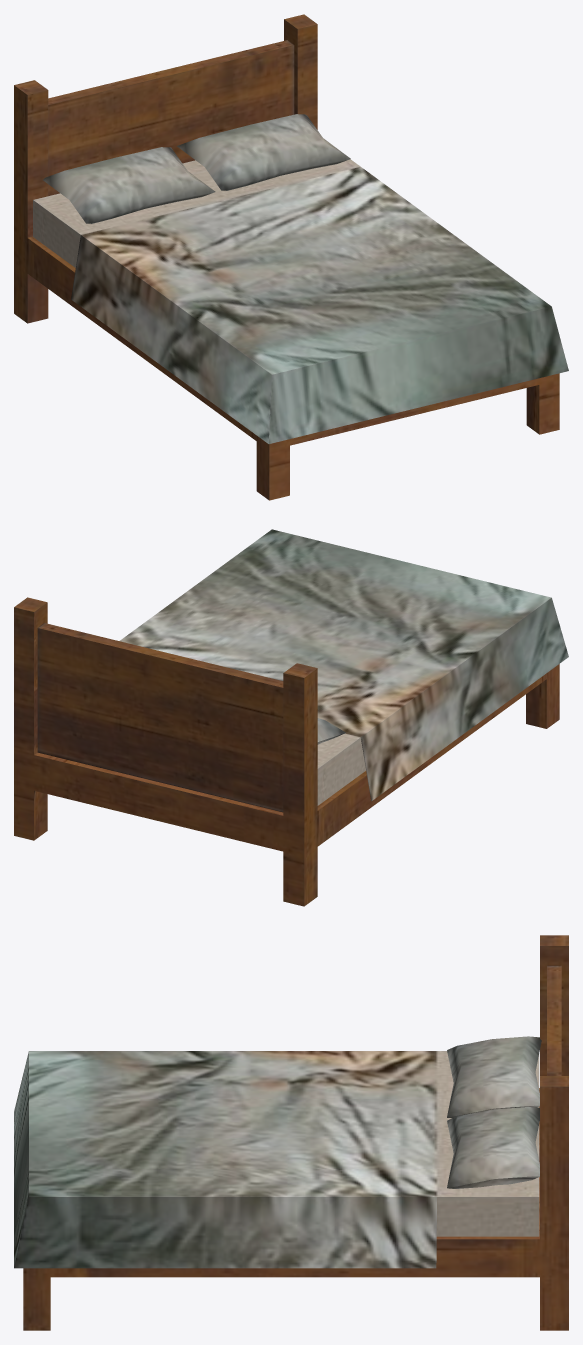
File: Bed.gltf
The picture shows the model from 3 angles, top to bottom: view 1: azimuth 30°, elevation 25°; view 2: azimuth 150°, elevation 25°; view 3: azimuth 270°, elevation 25°; orthographic projection. The views are drawn at different scales.
Visible parts, largest first — view 1: bed_04; view 2: bed_04; view 3: bed_04.
Part boxes in pixels (box(x1,y1,x2,y2)): bed_04: box(14, 14, 568, 500); bed_04: box(14, 529, 568, 906); bed_04: box(14, 935, 568, 1330).
Size of the model in its own units: 1.67 by 1.22 by 2.5.
Materials: 1 (1 with a texture image).
